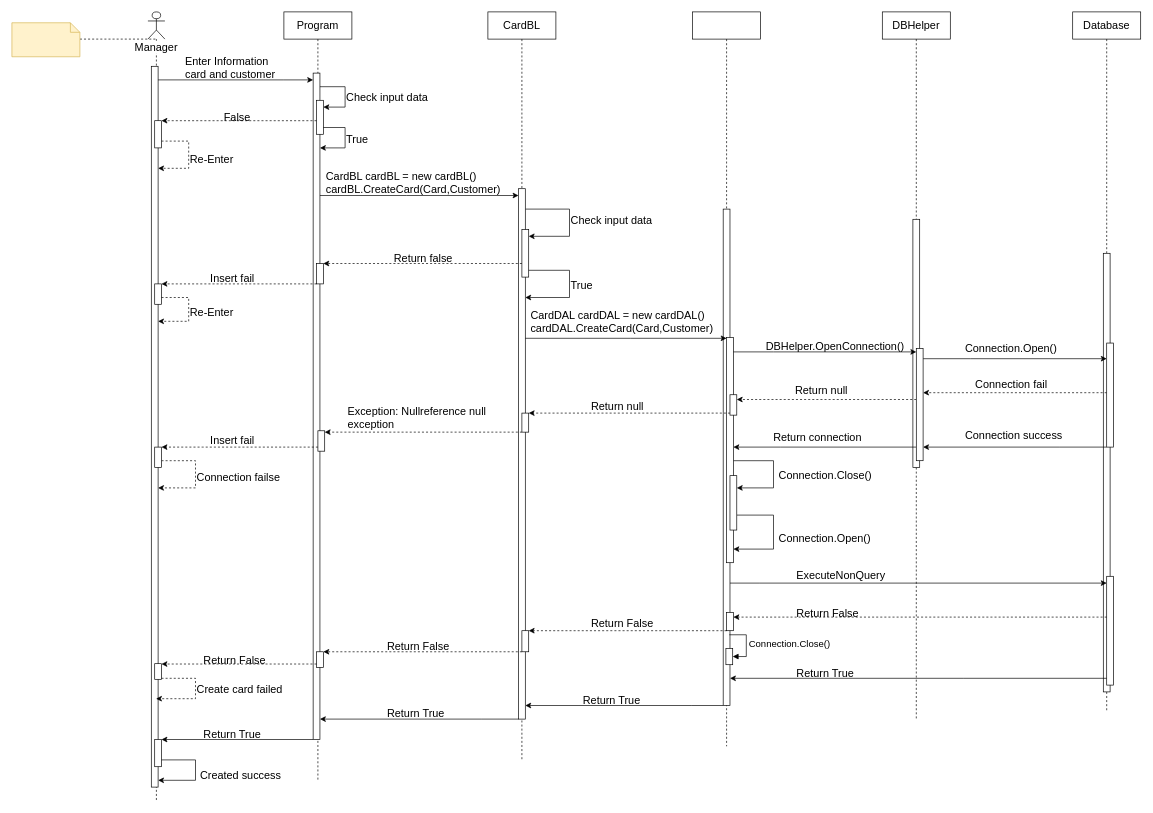
This 1153x813 diagram has some shape labels left out. The centre of each missing label's shape, as x and y in pixels:
CardDAL: pixel 726 378
Manager login: pixel 45 39
